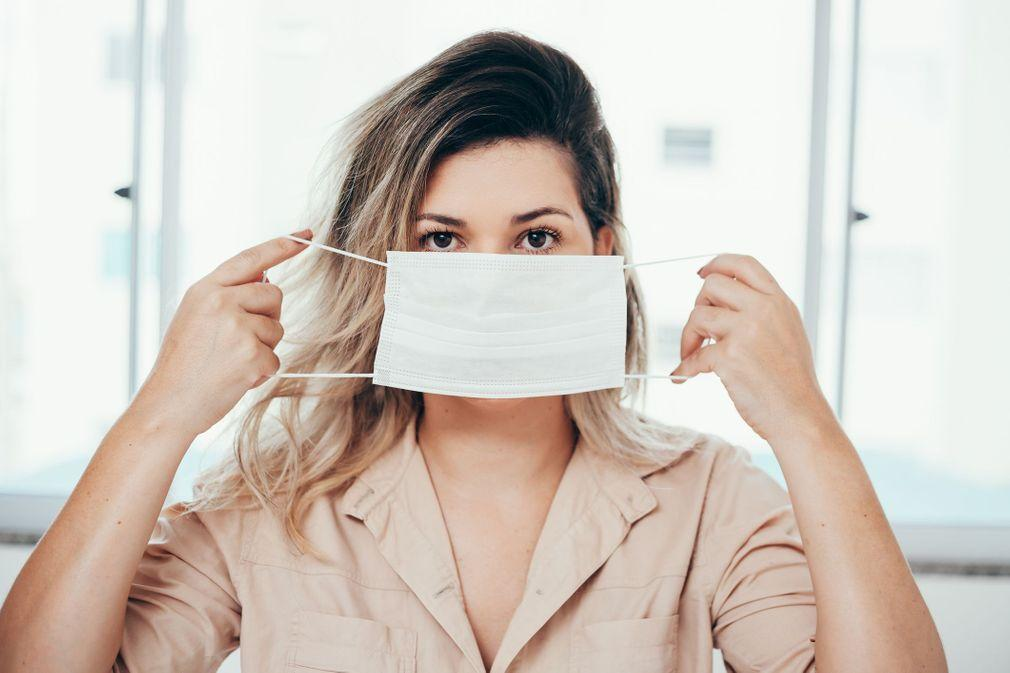Wore Mask Incorrectly: (201, 22, 786, 407)
